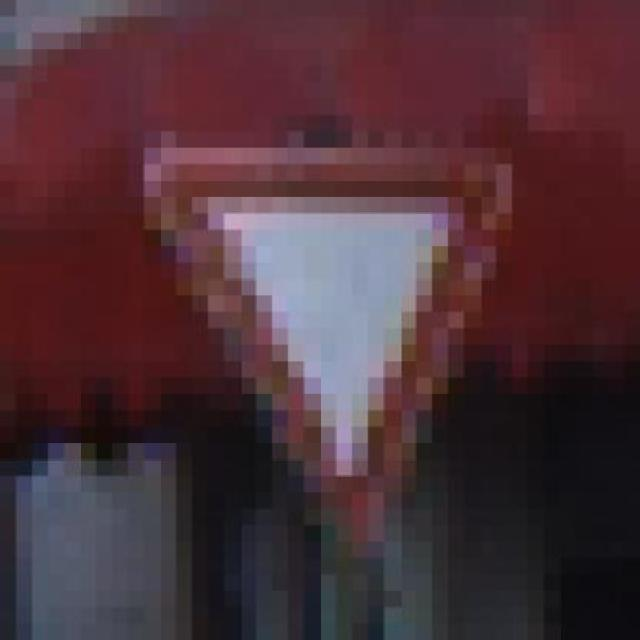Give Way: (72, 95, 599, 572)
